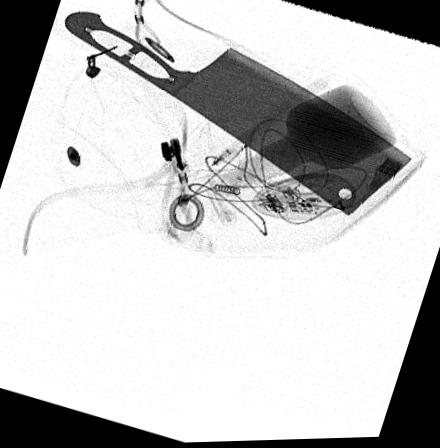Knife: (60, 11, 412, 221)
